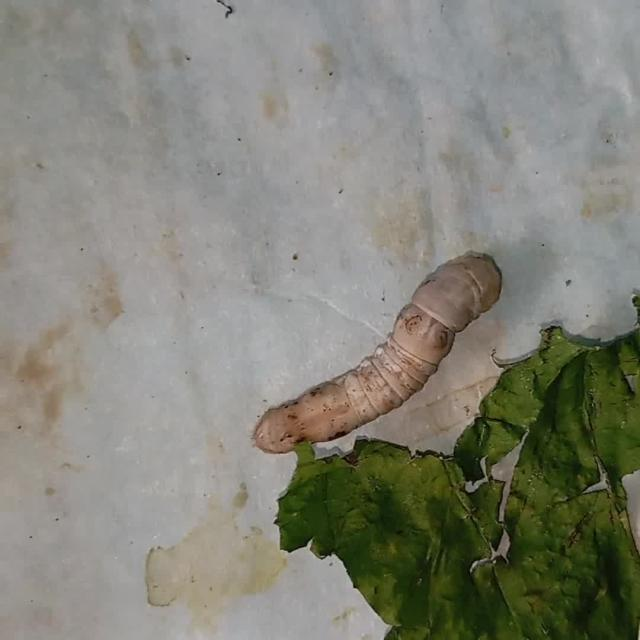Grasserie: (247, 215, 507, 458)
